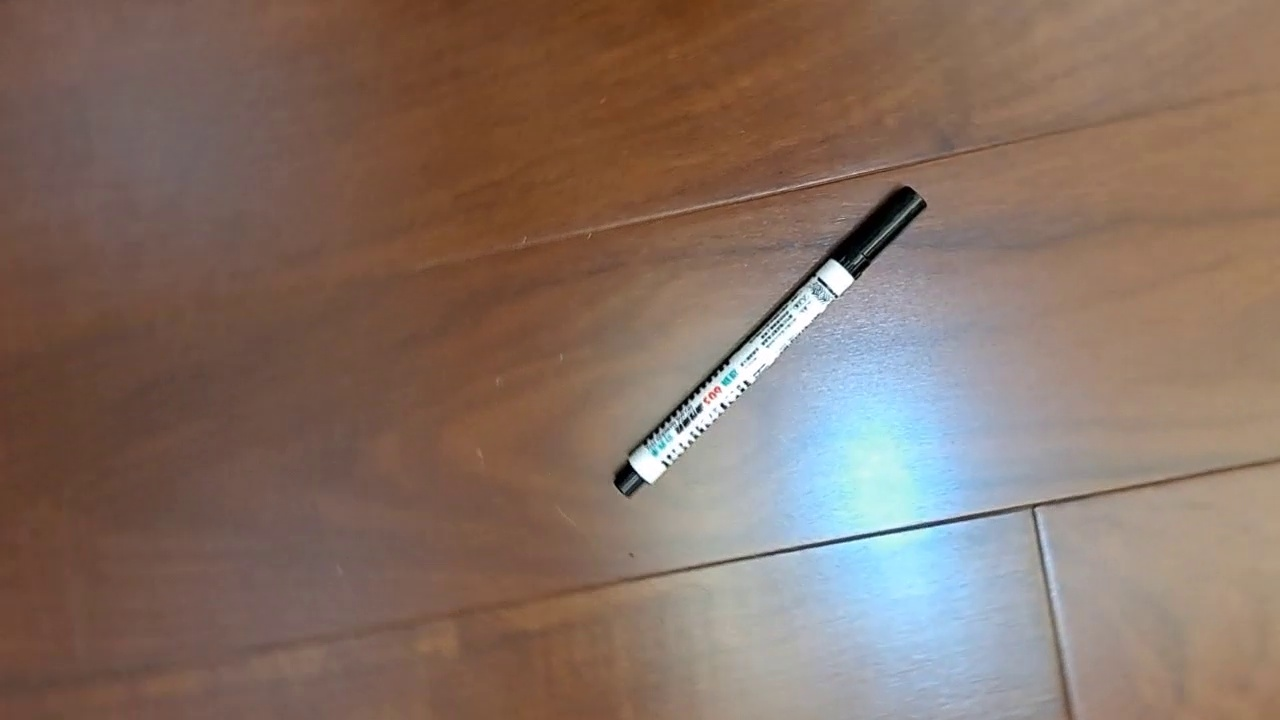pen: (613, 185, 928, 500)
